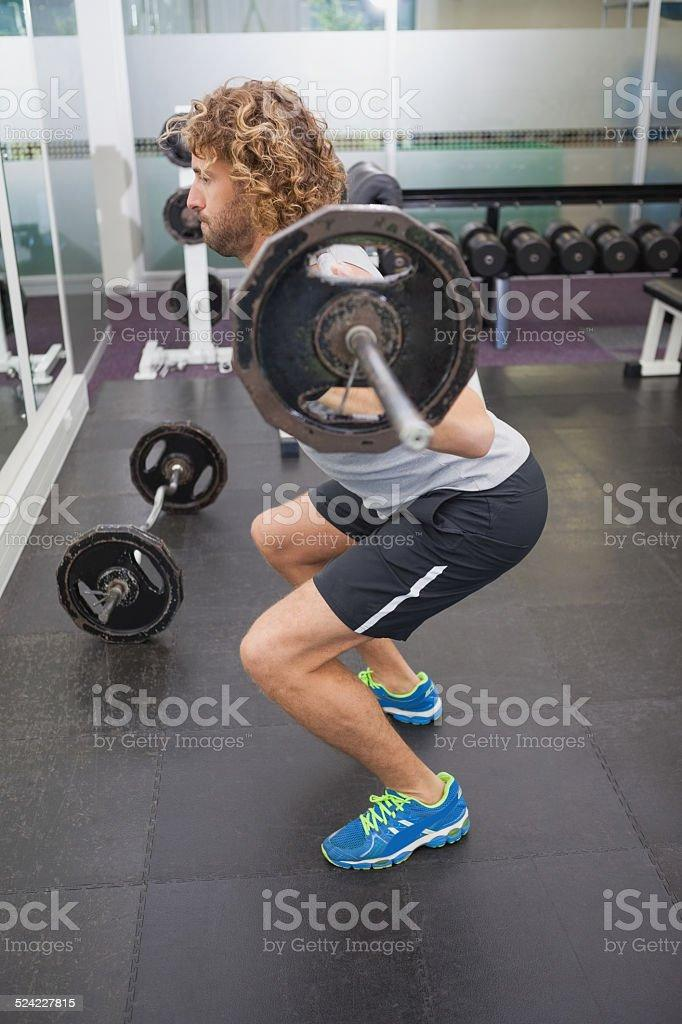Barbell: (396, 401, 445, 471)
